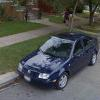Car: (15, 22, 98, 91)
